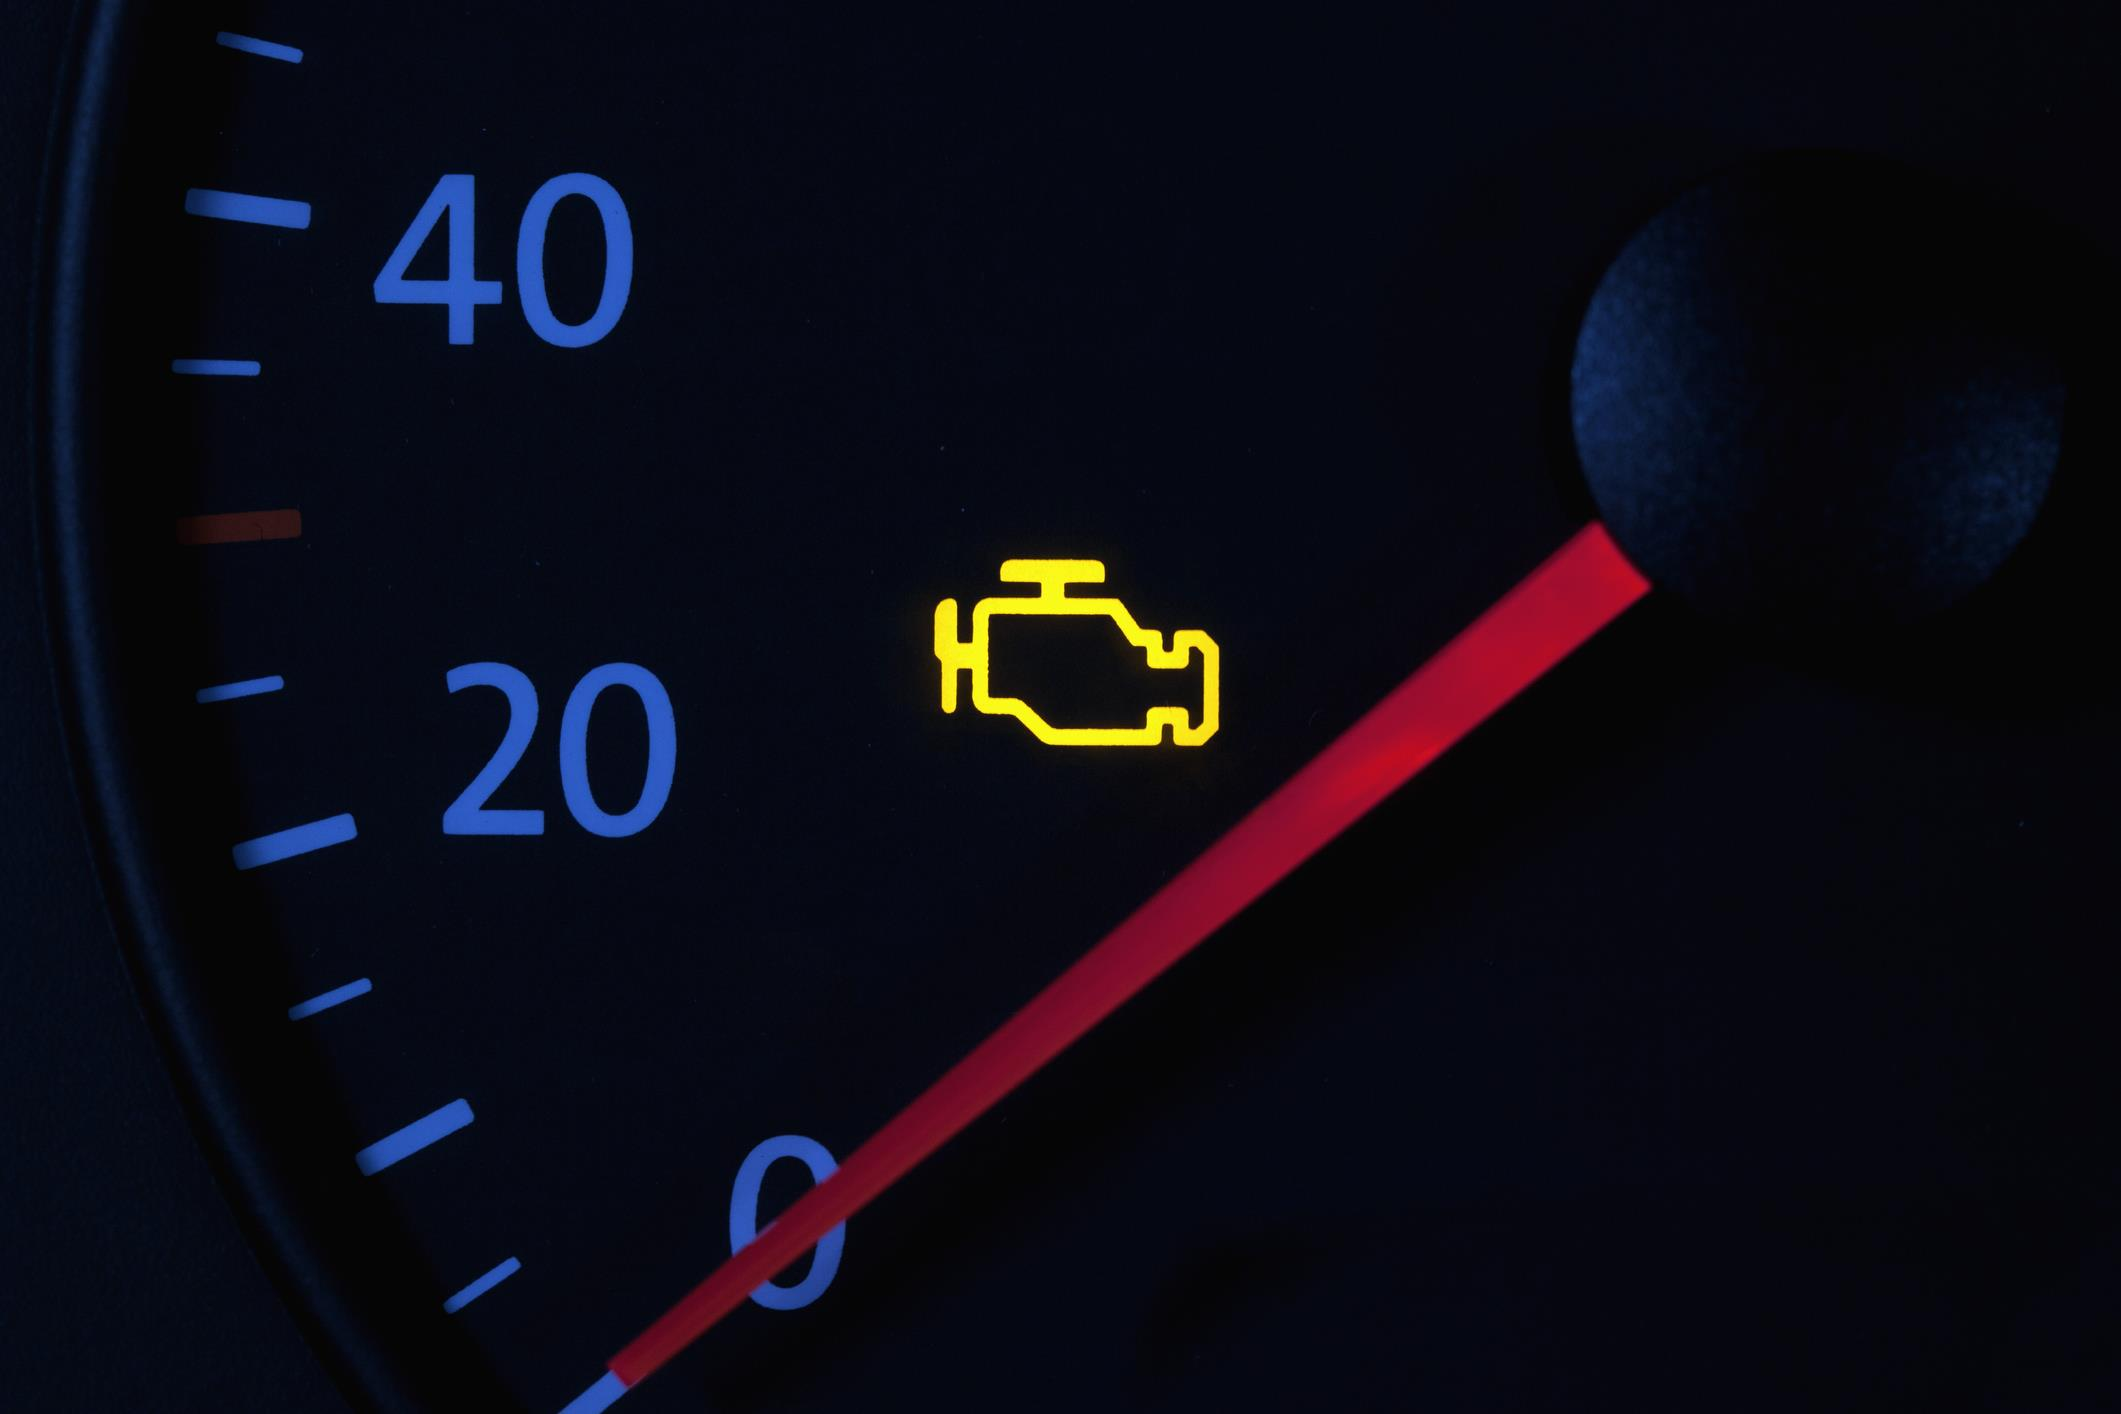Engine_emissions: (898, 533, 1237, 780)
